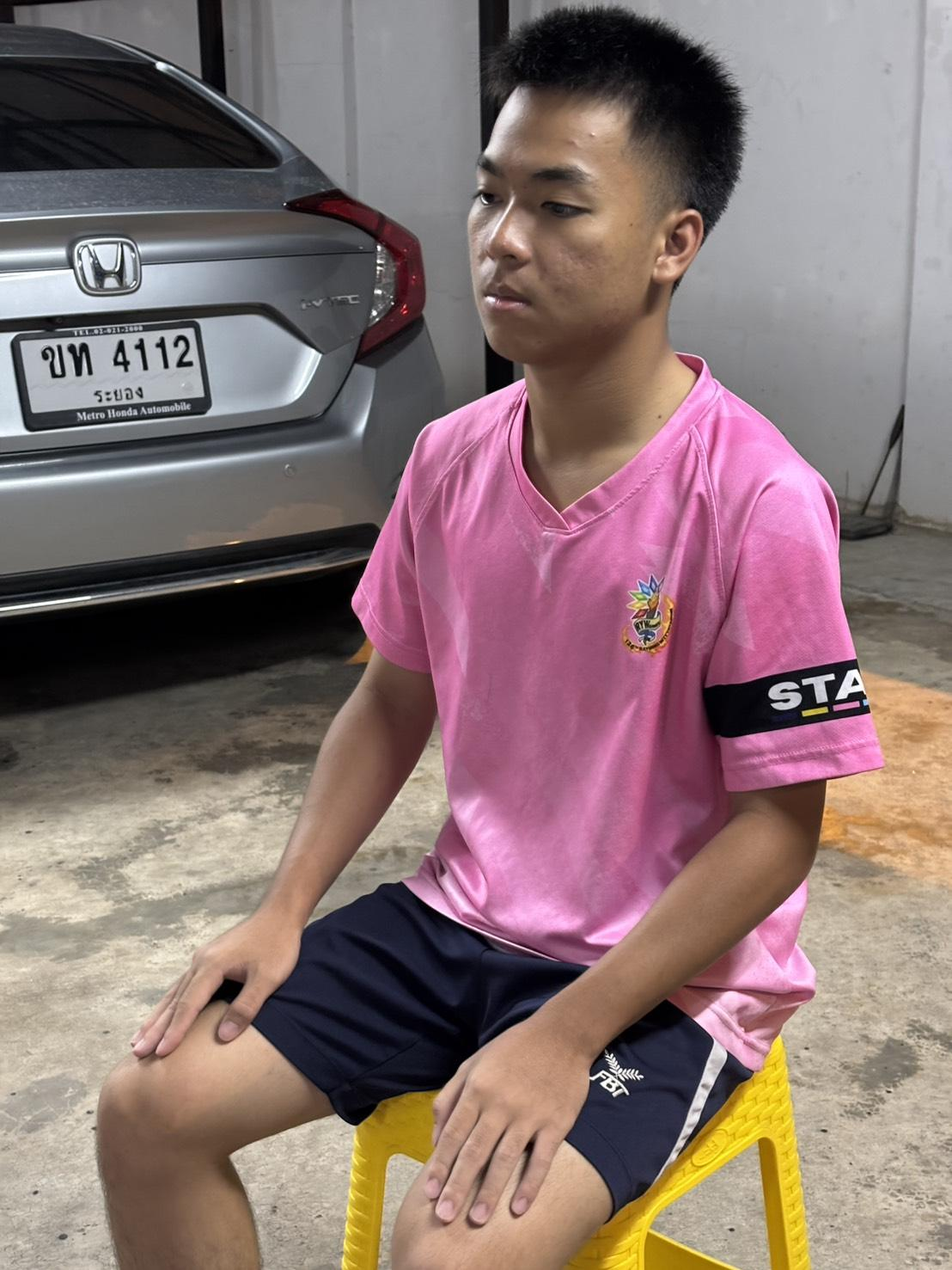GoodPosture: (192, 8, 879, 1269)
